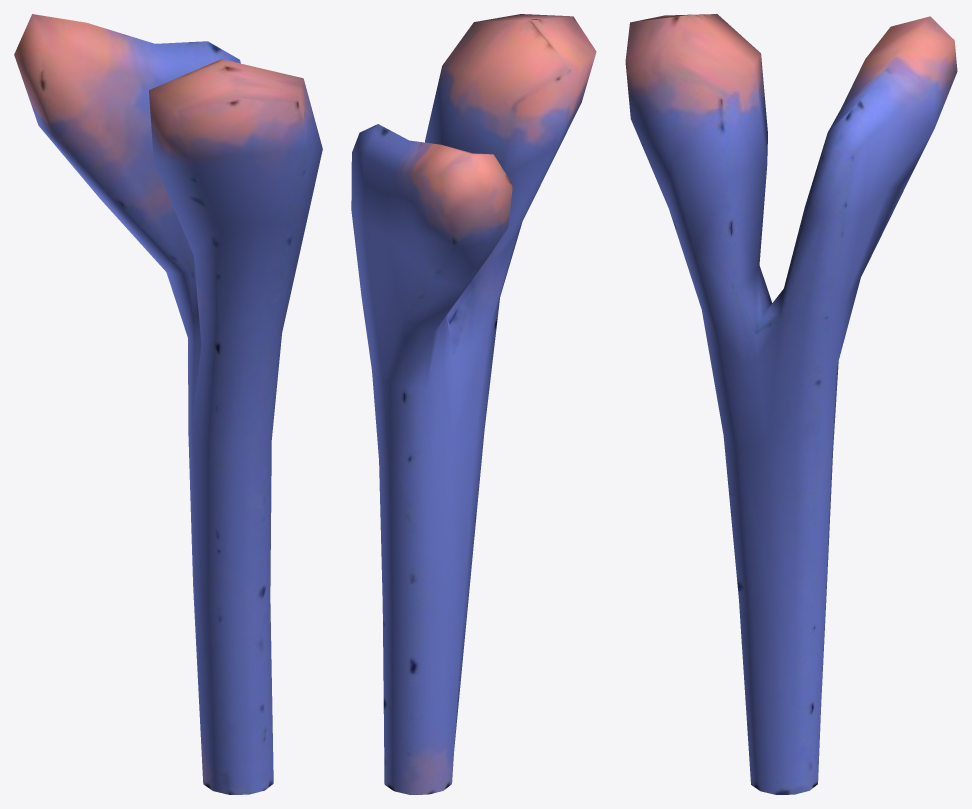
The model's file is 36-Bubble.fbx.
The picture shows the model from 3 angles, left to right: view 1: azimuth 30°, elevation 25°; view 2: azimuth 150°, elevation 25°; view 3: azimuth 270°, elevation 25°; orthographic projection. The views are drawn at different scales.
Visible parts, largest first — view 1: 36-Bubble_LOD00; view 2: 36-Bubble_LOD00; view 3: 36-Bubble_LOD00.
Boxes of the visible parts, left/top/right/bottom form: 36-Bubble_LOD00: left=14, top=14, right=322, bottom=794; 36-Bubble_LOD00: left=351, top=14, right=596, bottom=794; 36-Bubble_LOD00: left=625, top=14, right=957, bottom=794.
Size of the model in its own units: 9.57 by 37.42 by 15.32.
